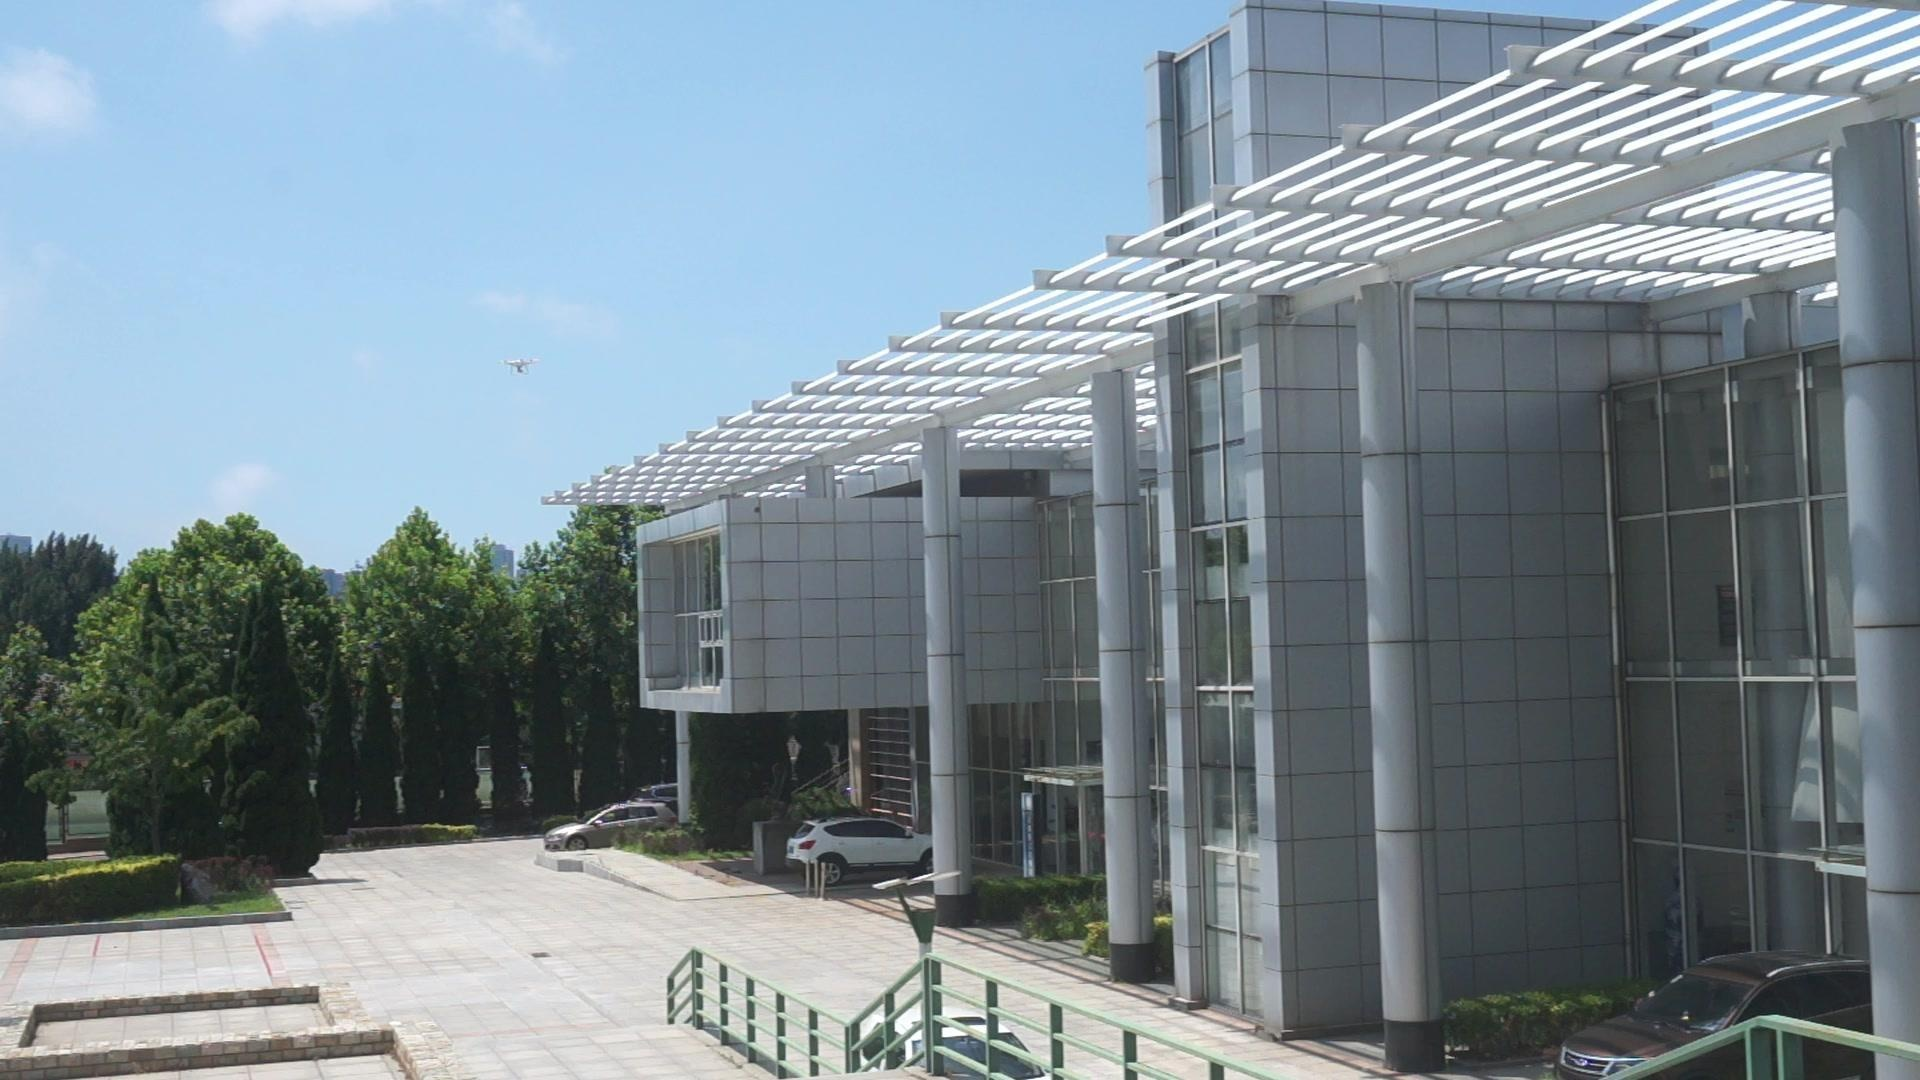UAV: (498, 359, 542, 377)
